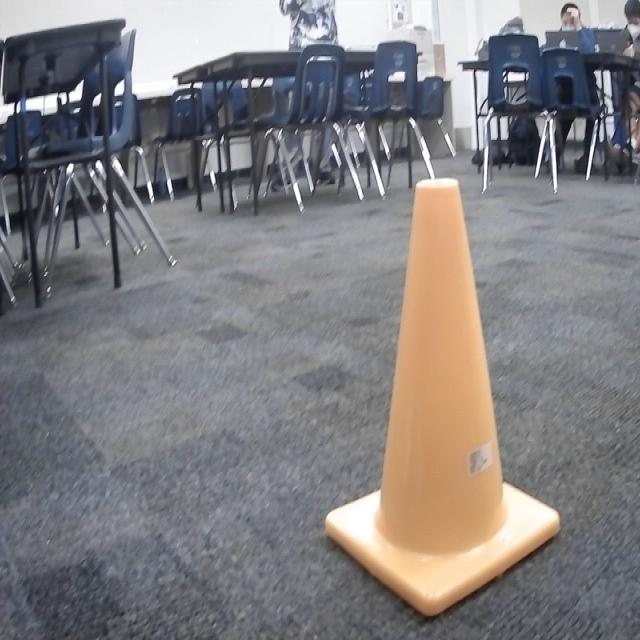cone: (325, 178, 561, 621)
